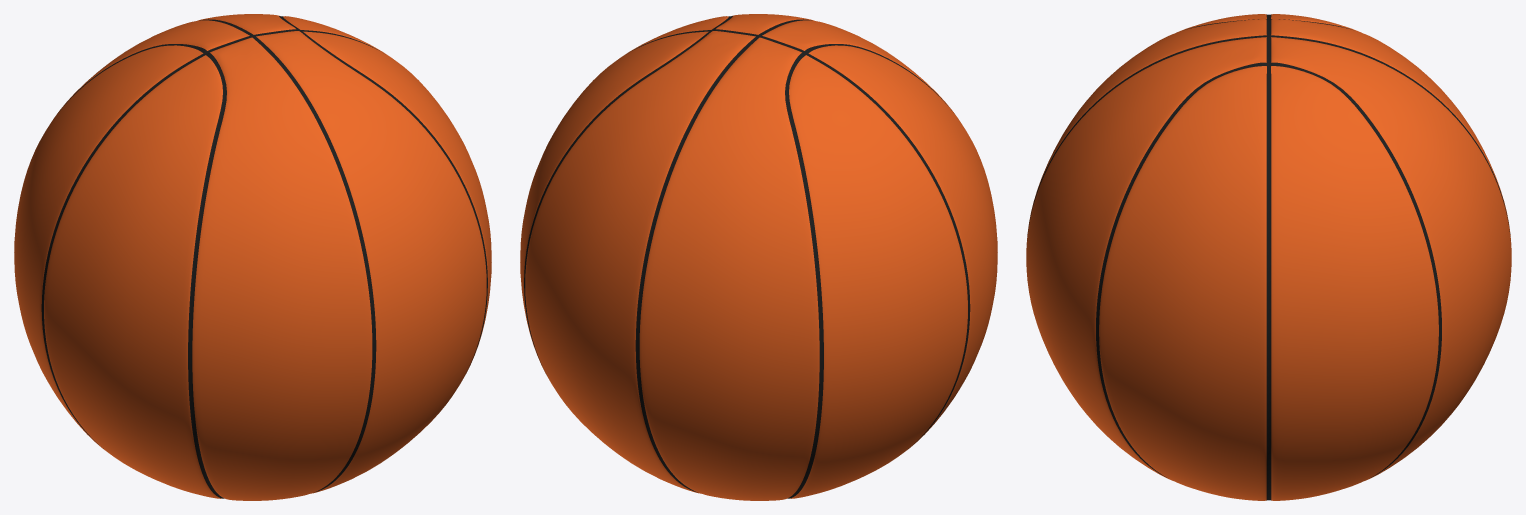
Rendered from BasketBall.fbx.
3 renders of one model, left to right at view 1: azimuth 30°, elevation 25°; view 2: azimuth 150°, elevation 25°; view 3: azimuth 270°, elevation 25°, orthographic.
Visible parts, largest first — view 1: BasketBall; view 2: BasketBall; view 3: BasketBall.
Boxes of the visible parts, <box> form: BasketBall: <box>14,14,491,500</box>; BasketBall: <box>520,14,997,500</box>; BasketBall: <box>1026,14,1511,500</box>.
Size of the model in its own units: 23.44 by 23.59 by 23.44.
